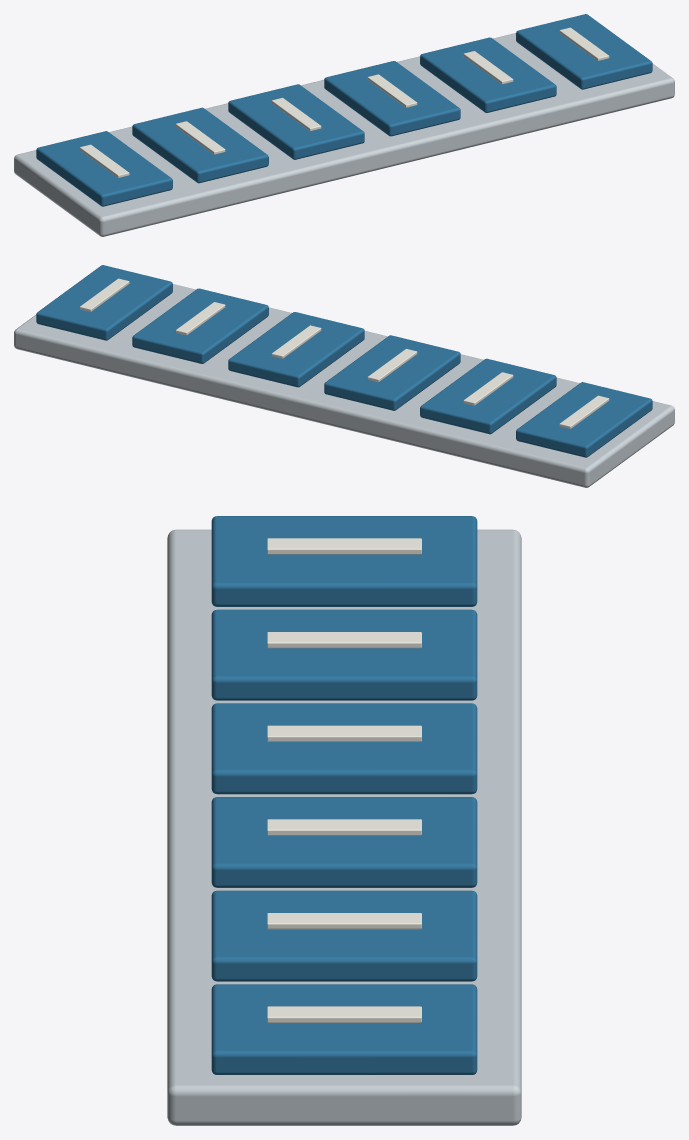
Rendered from curling-club-and-ice-maintenance-score-marker-set-34c384a4__31283.glb.
The picture shows the model from 3 angles, top to bottom: view 1: azimuth 30°, elevation 25°; view 2: azimuth 150°, elevation 25°; view 3: azimuth 270°, elevation 25°; orthographic projection. The views are drawn at different scales.
Parts seen in each view (by area): view 1: score-marker-set; view 2: score-marker-set; view 3: score-marker-set.
Part boxes in pixels (x1,y1,x2,y2): score-marker-set: (14, 14, 674, 236); score-marker-set: (14, 265, 674, 487); score-marker-set: (167, 516, 521, 1125).
Size of the model in its own units: 0.6 by 0.035 by 0.16.
